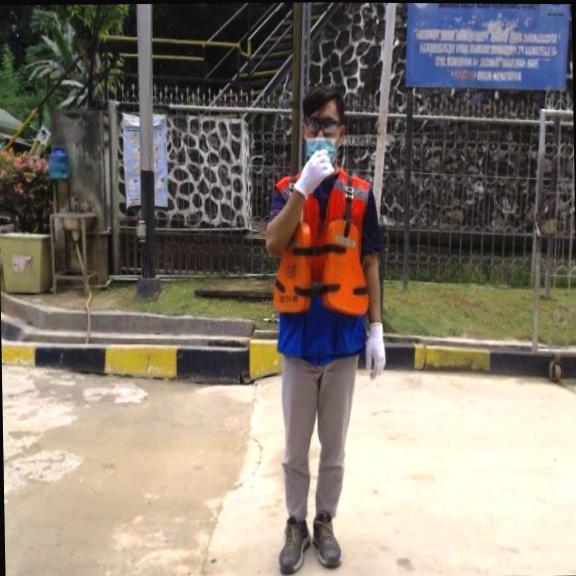safety_vest: (269, 217, 372, 321)
